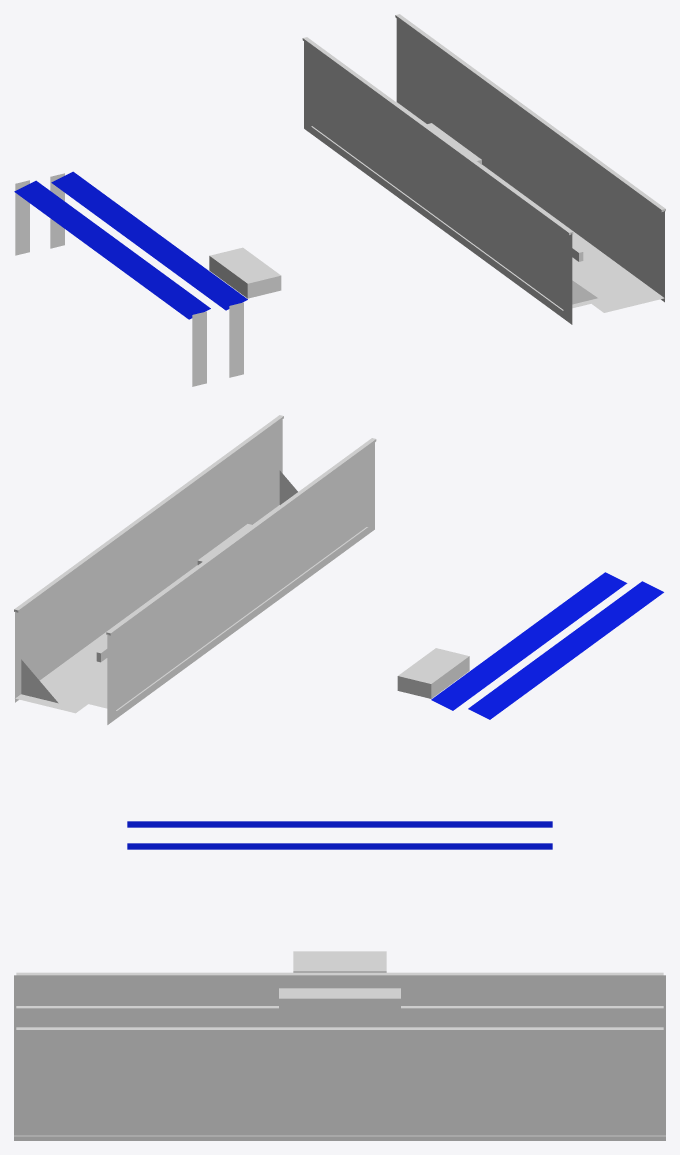
3 views of the same model, one above another, from view 1: azimuth 30°, elevation 25°; view 2: azimuth 150°, elevation 25°; view 3: azimuth 270°, elevation 25° (orthographic). The views are drawn at different scales.
Parts seen in each view (by area): view 1: Plane, Plane.003, Plane.009, Plane.008, Plane.002, Cube, Cube.003, Cube.004, Plane.001, Plane.013, Plane.010, Plane.012 (+1 smaller); view 2: Plane, Plane.003, Plane.008, Plane.009, Cube, Plane.002, Cube.003, Cube.004, Plane.001, Plane.006; view 3: Plane.003, Plane, Cube.001, Cube.002, Cube.003, Cube.004, Plane.008, Plane.009, Cube, Plane.002.
Part boxes in pixels (x1,y1,x2,y2): Plane: [304, 41, 572, 324]; Plane.003: [396, 18, 664, 302]; Plane.009: [14, 180, 210, 319]; Plane.008: [51, 171, 247, 310]; Plane.002: [396, 102, 664, 312]; Cube: [209, 247, 281, 298]; Cube.003: [302, 37, 573, 234]; Cube.004: [395, 14, 665, 211]; Plane.001: [311, 126, 623, 310]; Plane.013: [192, 311, 206, 386]; Plane.010: [229, 302, 243, 377]; Plane.012: [15, 180, 29, 255]; Plane: [107, 442, 374, 724]; Plane.003: [15, 419, 282, 702]; Plane.008: [431, 572, 627, 710]; Plane.009: [468, 581, 663, 719]; Cube: [397, 648, 469, 698]; Plane.002: [14, 505, 279, 713]; Cube.003: [106, 438, 376, 635]; Cube.004: [14, 415, 283, 612]; Plane.001: [56, 527, 367, 710]; Plane.006: [21, 659, 58, 703]; Plane.003: [14, 1030, 665, 1140]; Plane: [14, 975, 665, 1030]; Cube.001: [16, 1006, 663, 1019]; Cube.002: [279, 988, 400, 1020]; Cube.003: [16, 972, 663, 977]; Cube.004: [16, 1027, 663, 1032]; Plane.008: [127, 843, 552, 849]; Plane.009: [127, 821, 552, 827]; Cube: [293, 951, 386, 972]; Plane.002: [14, 1135, 665, 1136].
Size of the model in its own units: 9.92 by 2.33 by 10.67.
